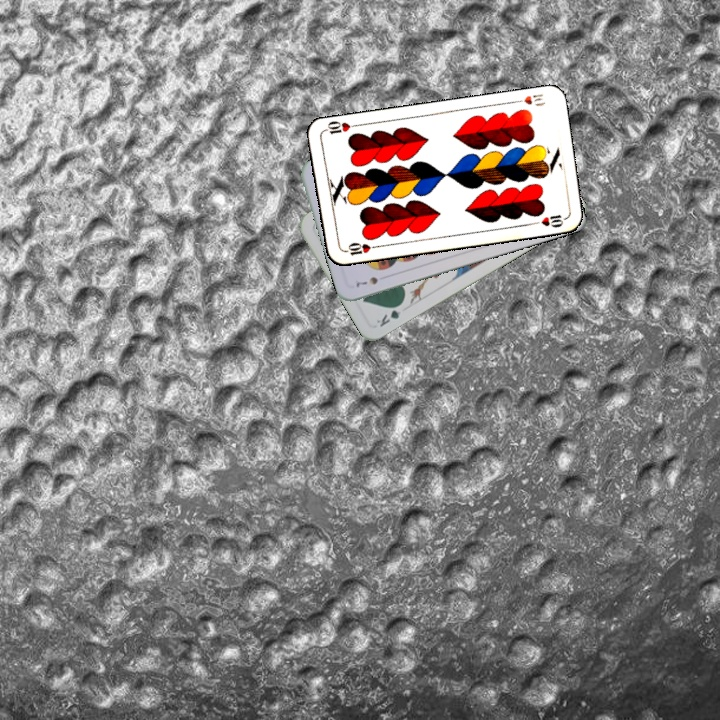GK: (372, 299, 406, 329)
H10: (339, 238, 380, 258), (509, 90, 548, 109)
S7: (352, 273, 381, 290)
